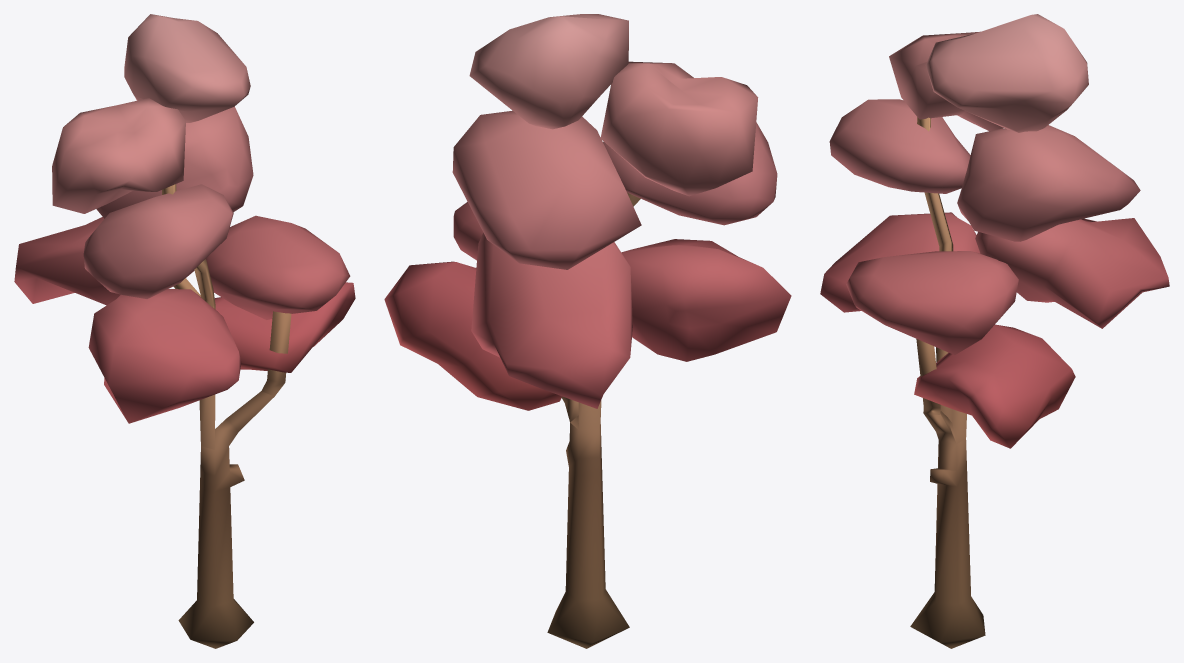
File: Tree_4.fbx
The picture shows the model from 3 angles, left to right: view 1: azimuth 30°, elevation 25°; view 2: azimuth 150°, elevation 25°; view 3: azimuth 270°, elevation 25°; orthographic projection. The views are drawn at different scales.
Visible parts, largest first — view 1: Tree_4; view 2: Tree_4; view 3: Tree_4.
Part boxes in pixels (x1=…): Tree_4: x1=14, y1=14, x2=355, y2=648; Tree_4: x1=384, y1=14, x2=791, y2=648; Tree_4: x1=820, y1=14, x2=1169, y2=648.
Bounding box in the file's own units: 255 × 464 × 235.
